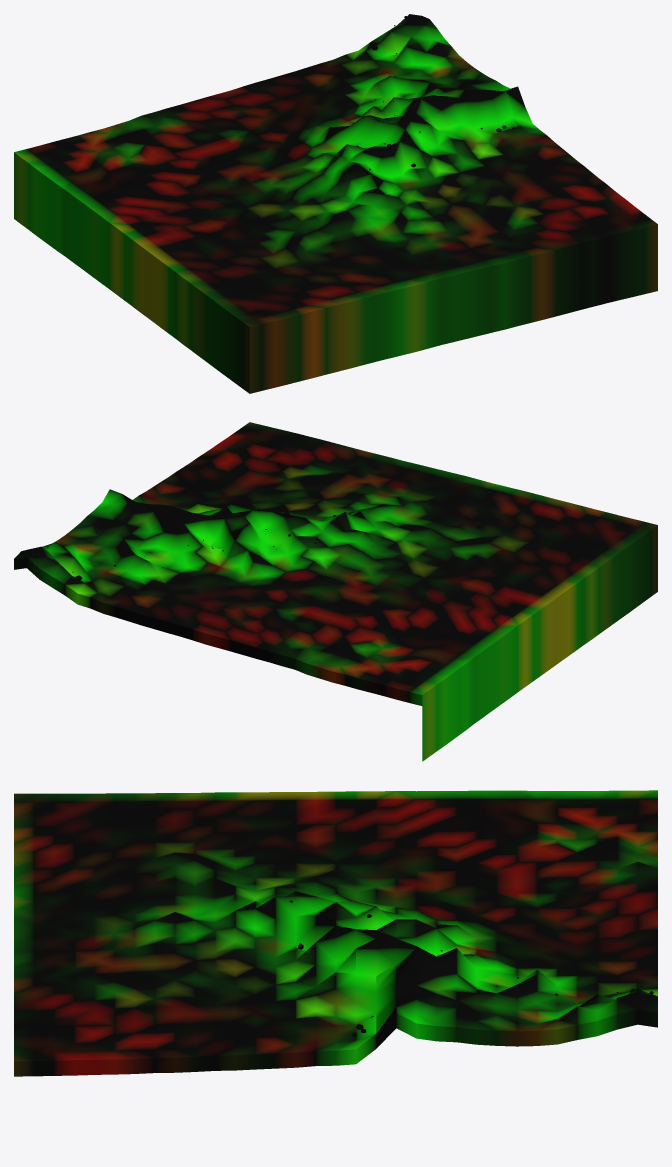
The model's file is Terrain_07_07.fbx.
3 views of the same model, one above another, from view 1: azimuth 30°, elevation 25°; view 2: azimuth 150°, elevation 25°; view 3: azimuth 270°, elevation 25° (orthographic). The views are drawn at different scales.
Parts seen in each view (by area): view 1: Terrain_07_07_LOD0; view 2: Terrain_07_07_LOD0; view 3: Terrain_07_07_LOD0.
Boxes of the visible parts, x1,y1,x2,y2 form: Terrain_07_07_LOD0: (14, 14, 657, 393); Terrain_07_07_LOD0: (14, 422, 657, 761); Terrain_07_07_LOD0: (14, 790, 657, 1076).
Size of what is drawn, in the model's own units: 384 by 101 by 384.
